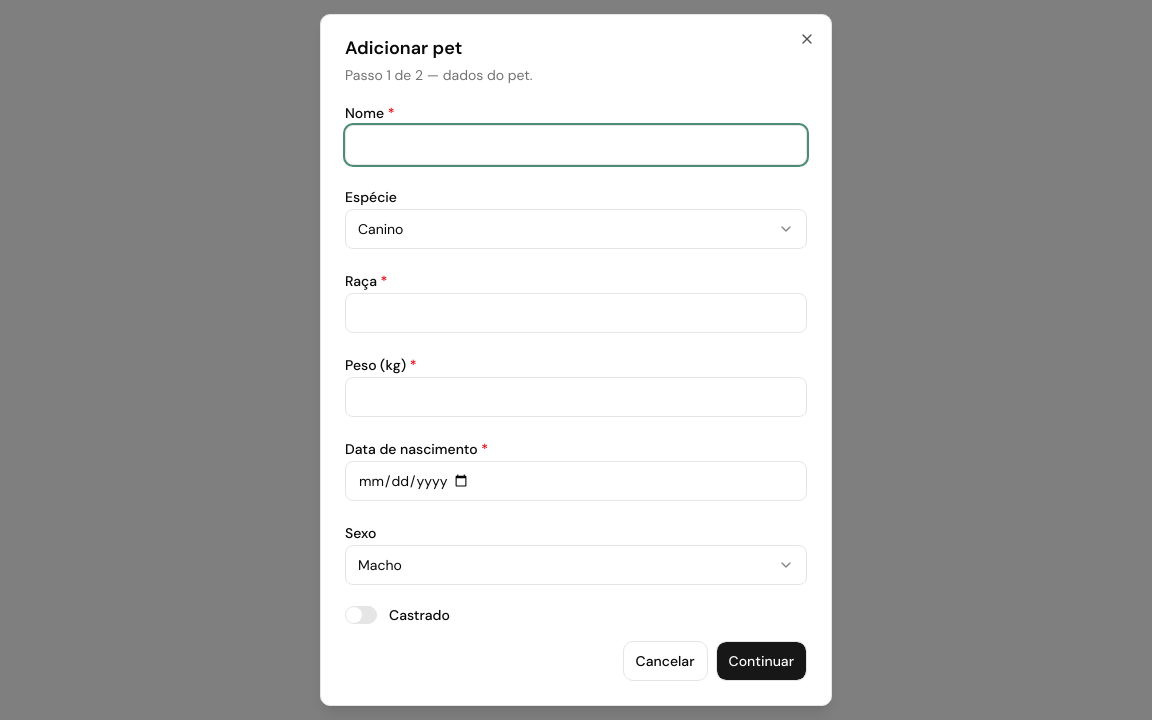
Test: AddPetToClientDialog — 422 error mapping by reason › should show the correct message for reason=client_inadimplente
This screenshot has width=1152, height=720.
In the field labelled "Nome *": (576, 145) [345,125,807,165], type "Rex"
In the field labelled "Raça *": (576, 313) [345,293,807,333], type "Golden"
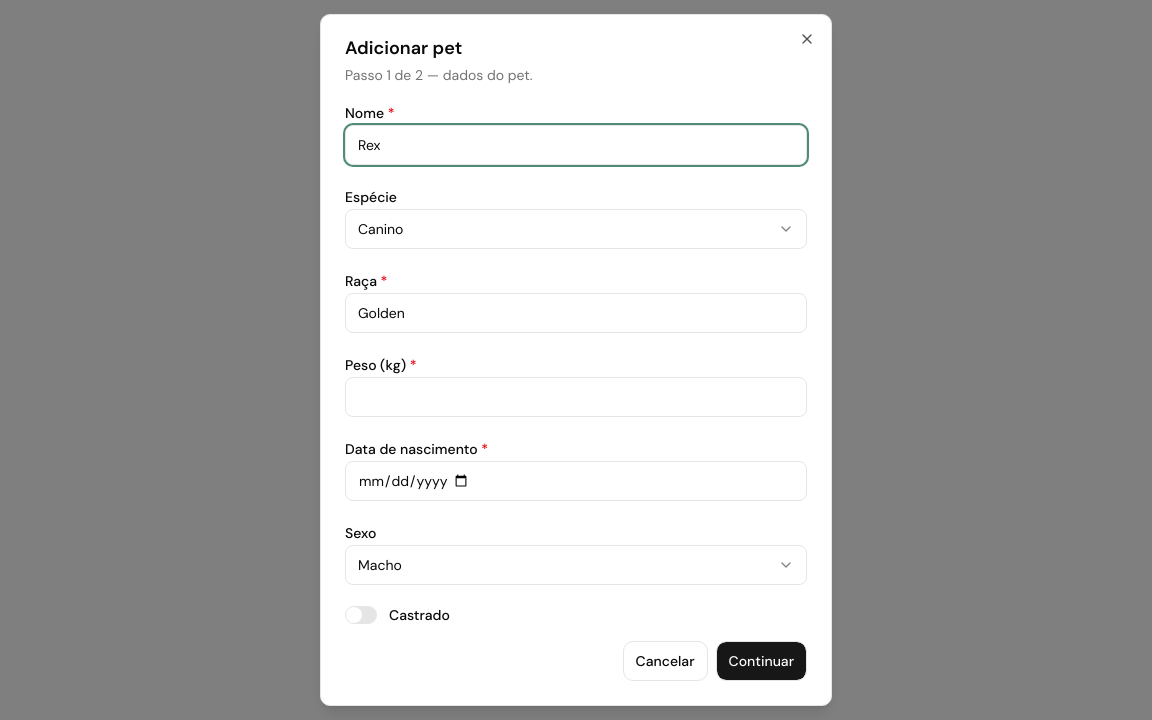
In the number field labelled "Peso (kg) *": (576, 397) [345,377,807,417], type "25"
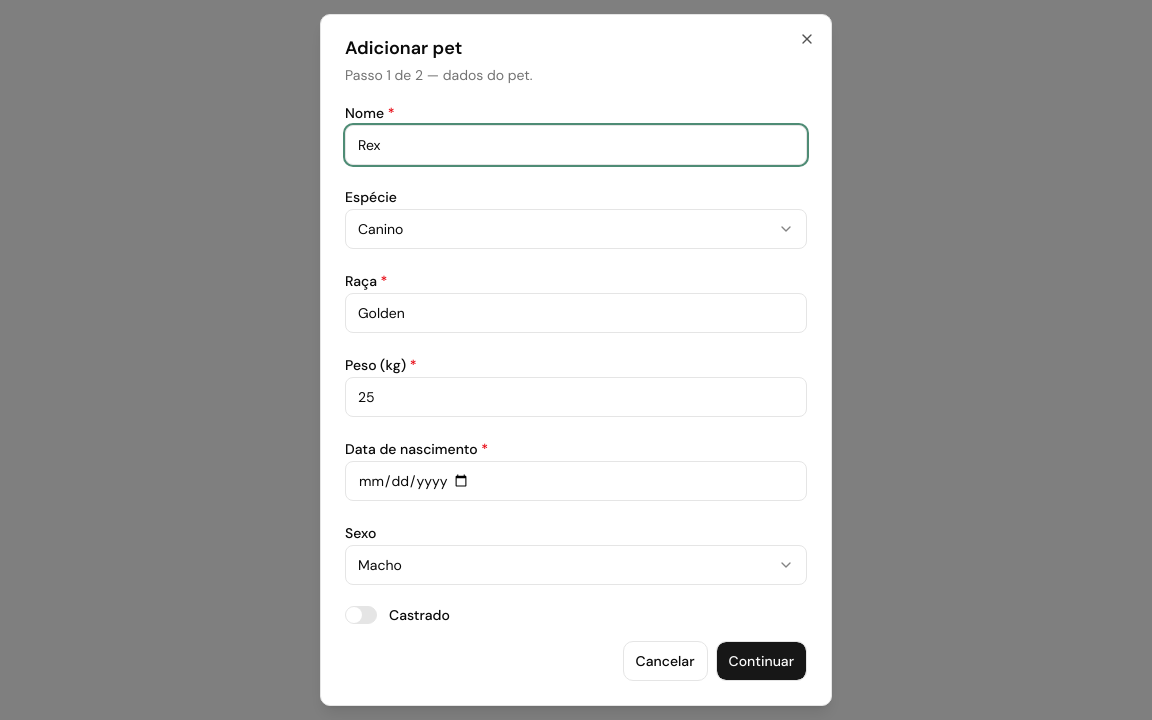
In the date field labelled "Data de nascimento *": (576, 481) [345,461,807,501], type "2021-01-01"
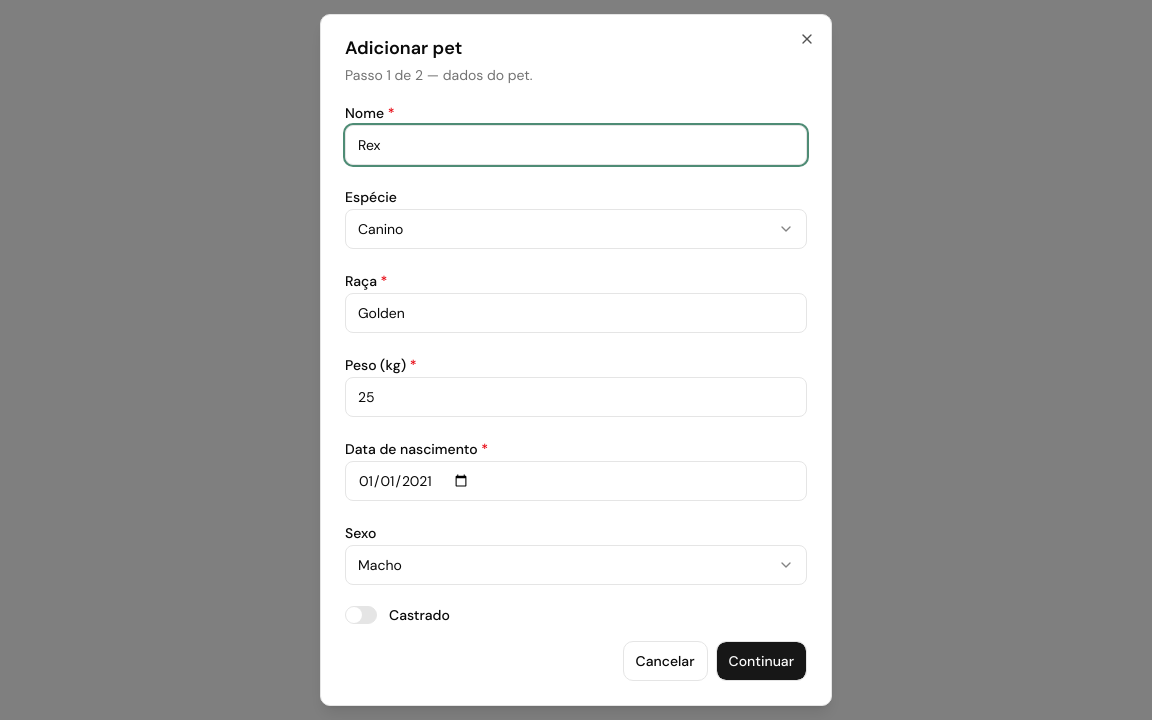
Submit the form with id "add-pet-form", box [345,101,807,625]
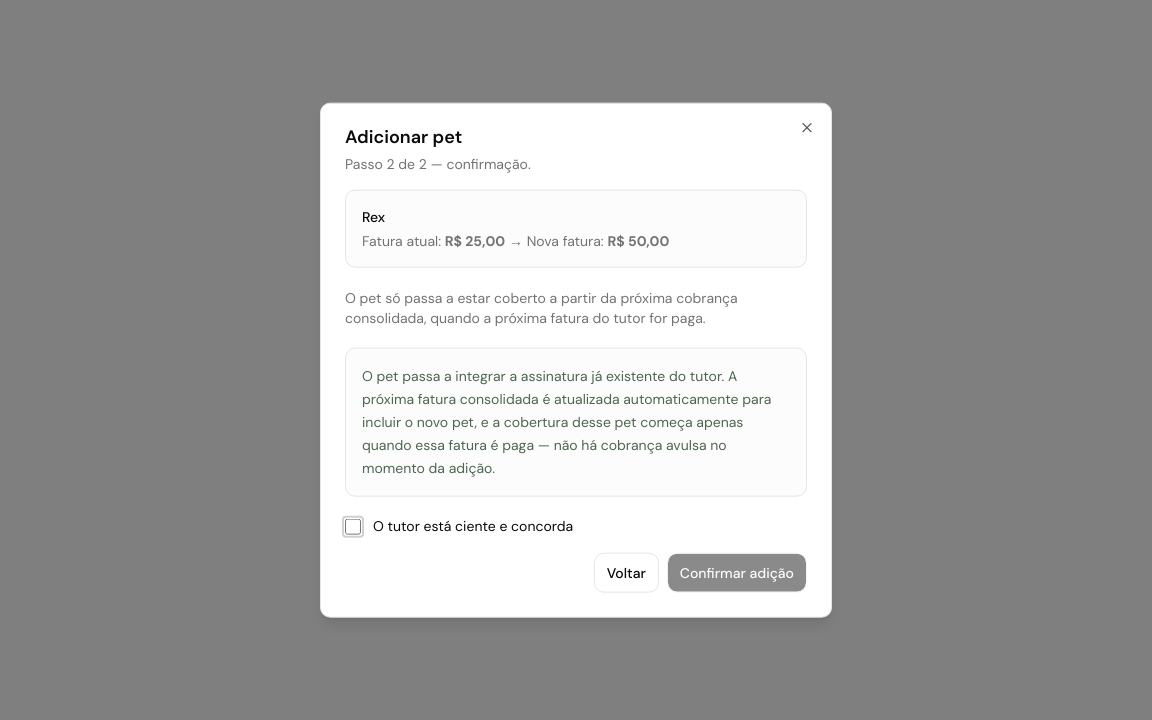
Click the checkbox labelled "O tutor está ciente e concorda": (353, 527) [345,519,361,535]
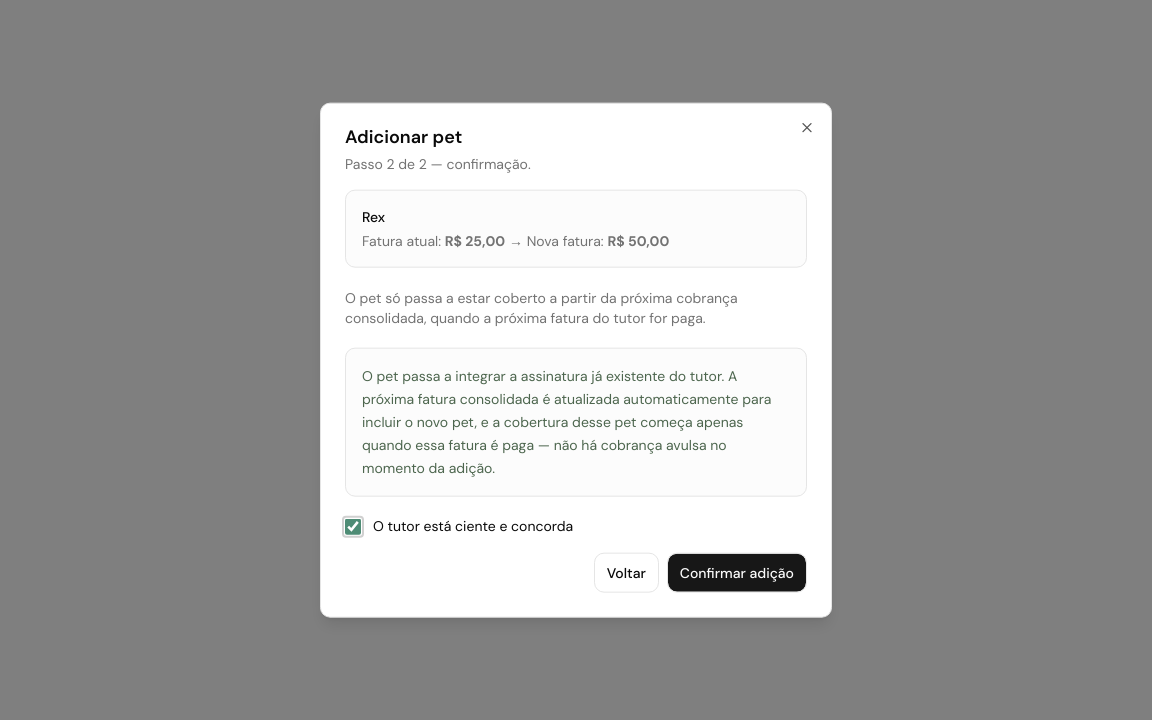
Click the button "Confirmar adição": (737, 572) [667,552,807,592]
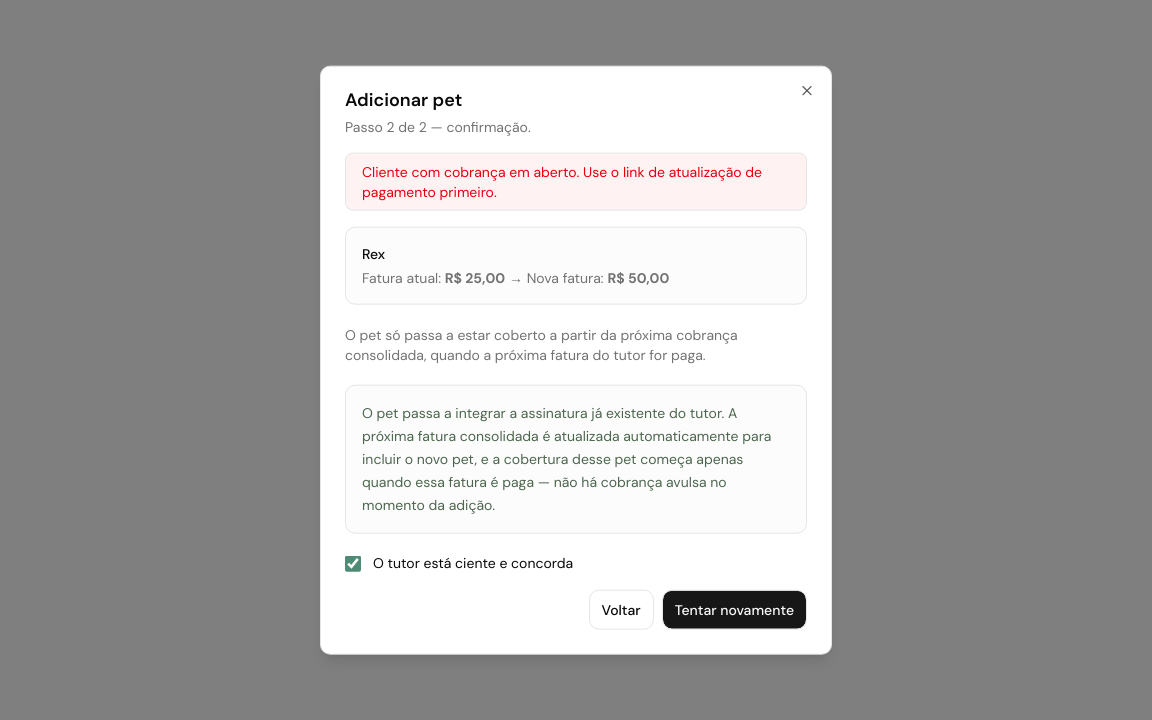
Now the message shows "cobrança em aberto", box [362,163,762,201]
